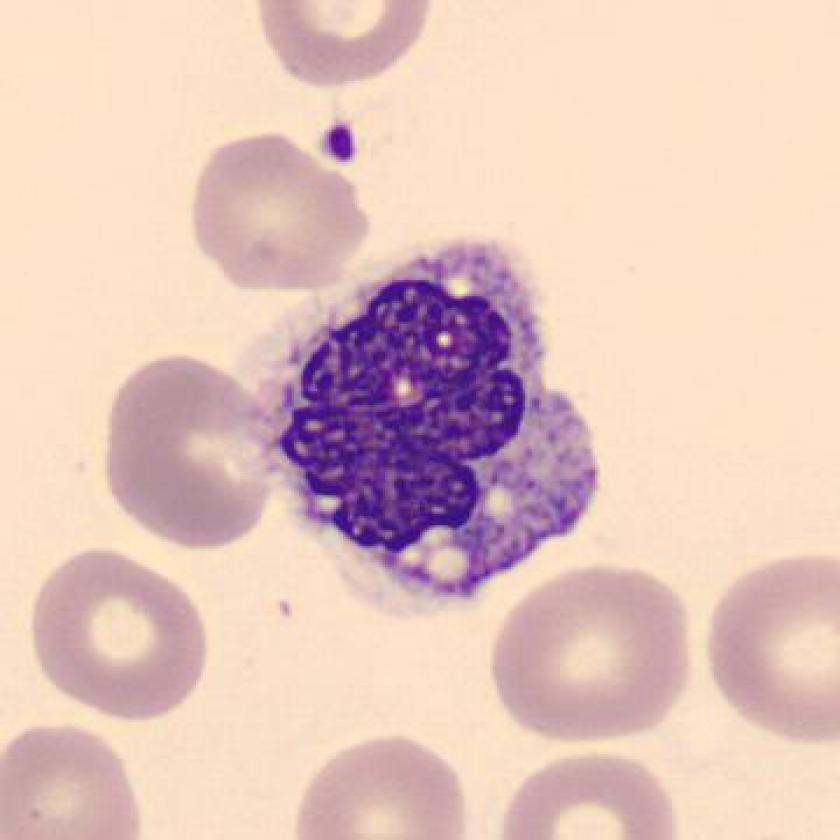monocyte: (235, 223, 620, 612)
